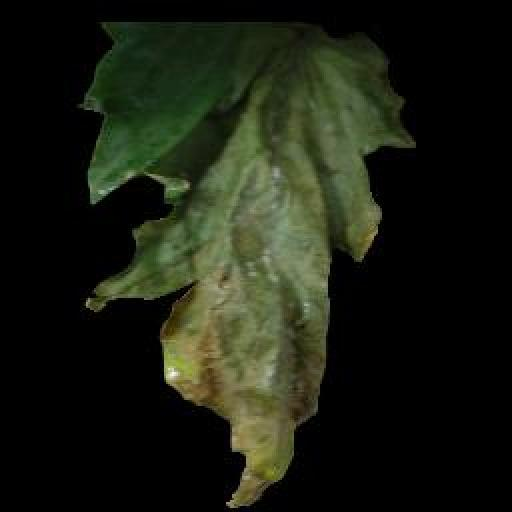disease_tomato: (78, 18, 418, 512)
